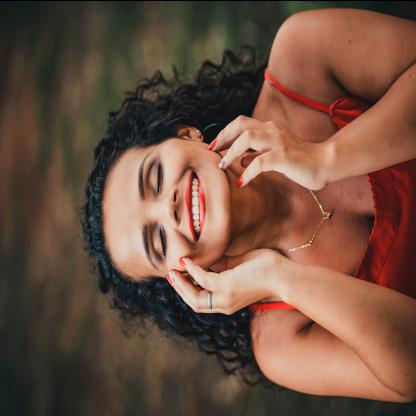Eye: (148, 154, 163, 194), (153, 222, 167, 261)
Mouth: (185, 169, 206, 244)
Nose: (151, 184, 181, 226)
